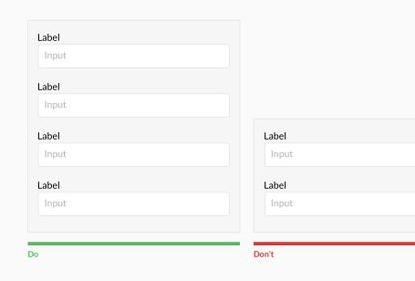field: (36, 90, 233, 120), (35, 189, 231, 219), (36, 42, 230, 71), (36, 140, 230, 169)
field_with_label: (32, 80, 236, 123), (33, 129, 234, 172), (33, 179, 234, 221), (35, 31, 233, 72)
